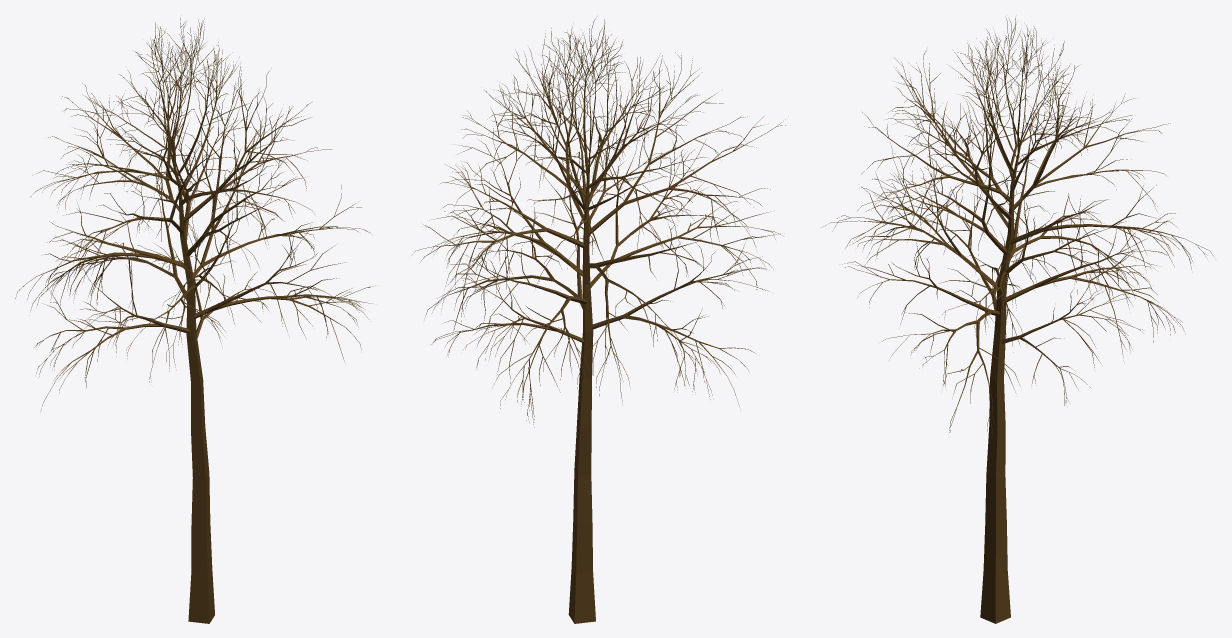
Rendered from dryTree.fbx.
3 views of the same model, side by side, from view 1: azimuth 30°, elevation 25°; view 2: azimuth 150°, elevation 25°; view 3: azimuth 270°, elevation 25° (orthographic). The views are drawn at different scales.
Parts seen in each view (by area): view 1: dryTree; view 2: dryTree; view 3: dryTree.
Boxes of the visible parts, x1,y1,x2,y2 form: dryTree: (15,18,375,623); dryTree: (411,18,785,623); dryTree: (821,18,1213,623).
Bounding box in the file's own units: 280 × 502 × 306.
